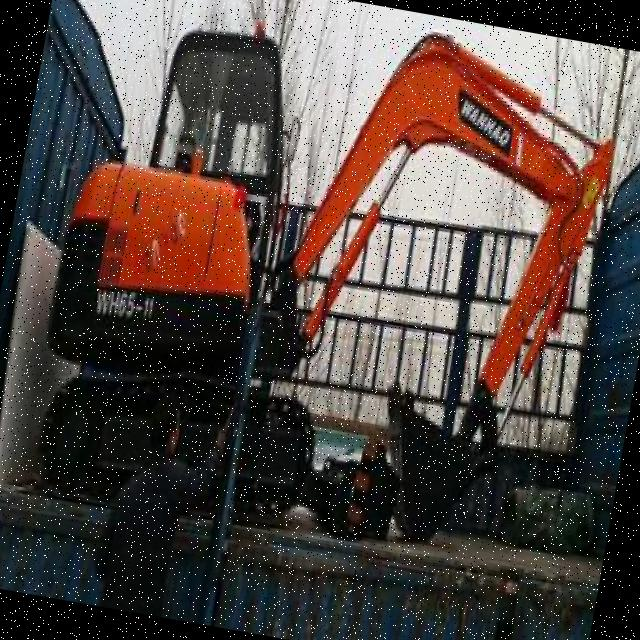Excavator: (16, 0, 627, 570)
